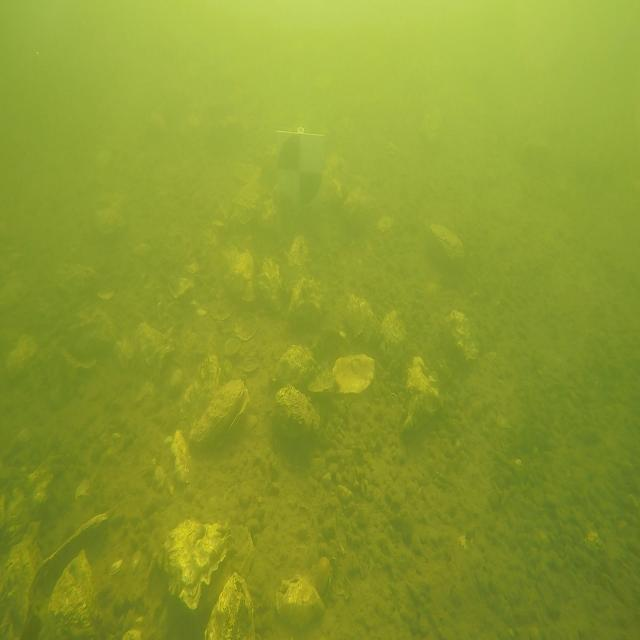Oyster- Indeterminate: (182, 356, 218, 424)
Oyster-Closed: (165, 520, 232, 609), (0, 522, 41, 639), (205, 573, 255, 640), (115, 322, 172, 377), (404, 356, 441, 429), (271, 384, 320, 438), (69, 307, 116, 362), (276, 578, 324, 629), (272, 344, 318, 389), (428, 224, 464, 271), (90, 193, 126, 240), (289, 278, 322, 327), (445, 311, 478, 360), (346, 296, 380, 342), (225, 249, 254, 302), (59, 264, 96, 304), (381, 309, 406, 362), (285, 236, 310, 289), (6, 336, 38, 376), (259, 258, 282, 311), (235, 313, 259, 342), (169, 276, 194, 298)
Oyster-Open: (21, 513, 109, 640), (190, 380, 249, 449), (309, 353, 375, 393)
